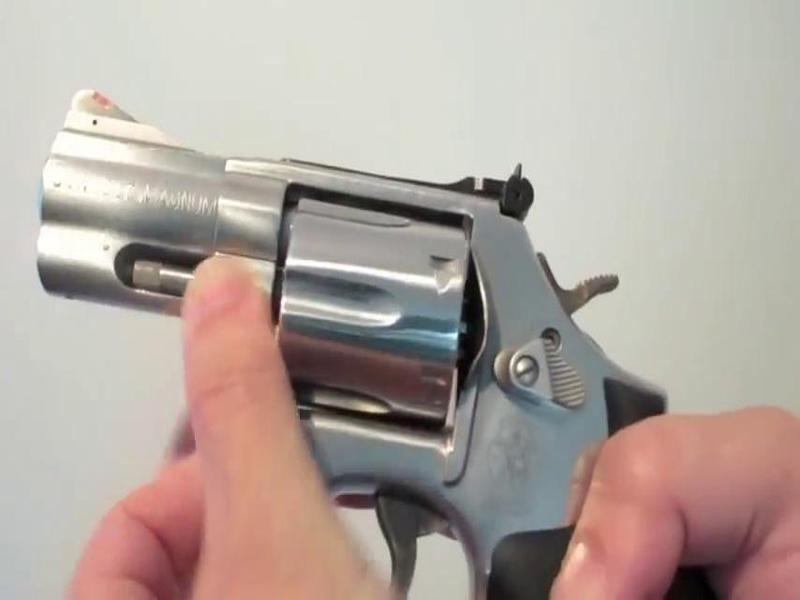Revolver: (30, 67, 704, 575)
